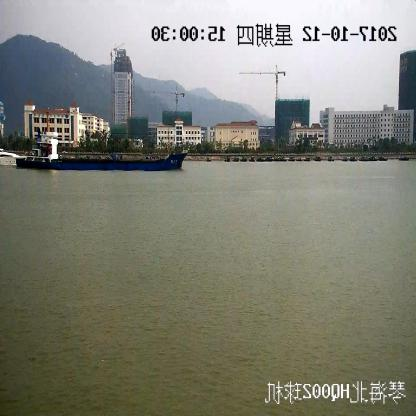Bulk Carrier: (16, 110, 186, 170)
